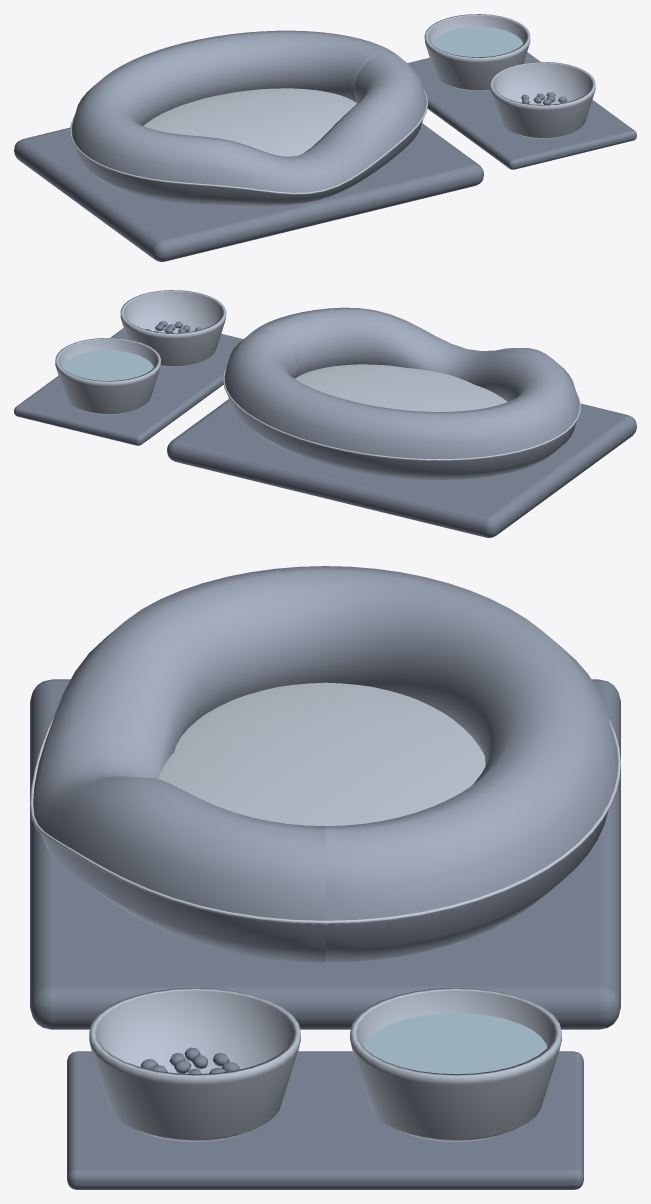
Rendered from pet-bed-bowls-lite.glb.
The picture shows the model from 3 angles, top to bottom: view 1: azimuth 30°, elevation 25°; view 2: azimuth 150°, elevation 25°; view 3: azimuth 270°, elevation 25°; orthographic projection. The views are drawn at different scales.
Parts seen in each view (by area): view 1: pet-bed-bowls-soft, pet-bed-bowls-frame, pet-bed-bowls-bowl, pet-bed-bowls-light, pet-bed-bowls-water; view 2: pet-bed-bowls-soft, pet-bed-bowls-frame, pet-bed-bowls-bowl, pet-bed-bowls-light, pet-bed-bowls-water; view 3: pet-bed-bowls-soft, pet-bed-bowls-frame, pet-bed-bowls-bowl, pet-bed-bowls-light, pet-bed-bowls-water, pet-bed-bowls-food.
Boxes of the visible parts, x1,y1,x2,y2 form: pet-bed-bowls-soft: (71,30,426,206); pet-bed-bowls-frame: (14,52,636,261); pet-bed-bowls-bowl: (424,14,595,138); pet-bed-bowls-light: (70,88,427,194); pet-bed-bowls-water: (432,26,523,57); pet-bed-bowls-soft: (224,307,579,479); pet-bed-bowls-frame: (14,328,636,537); pet-bed-bowls-bowl: (55,290,226,414); pet-bed-bowls-light: (223,364,580,460); pet-bed-bowls-water: (62,350,153,380); pet-bed-bowls-soft: (33,566,617,962); pet-bed-bowls-frame: (30,679,620,1189); pet-bed-bowls-bowl: (89,988,561,1141); pet-bed-bowls-light: (30,682,620,924); pet-bed-bowls-water: (364,1013,547,1074); pet-bed-bowls-food: (140,1047,239,1074).
Bounding box in the file's own units: 0.92 × 0.156 × 0.48.
